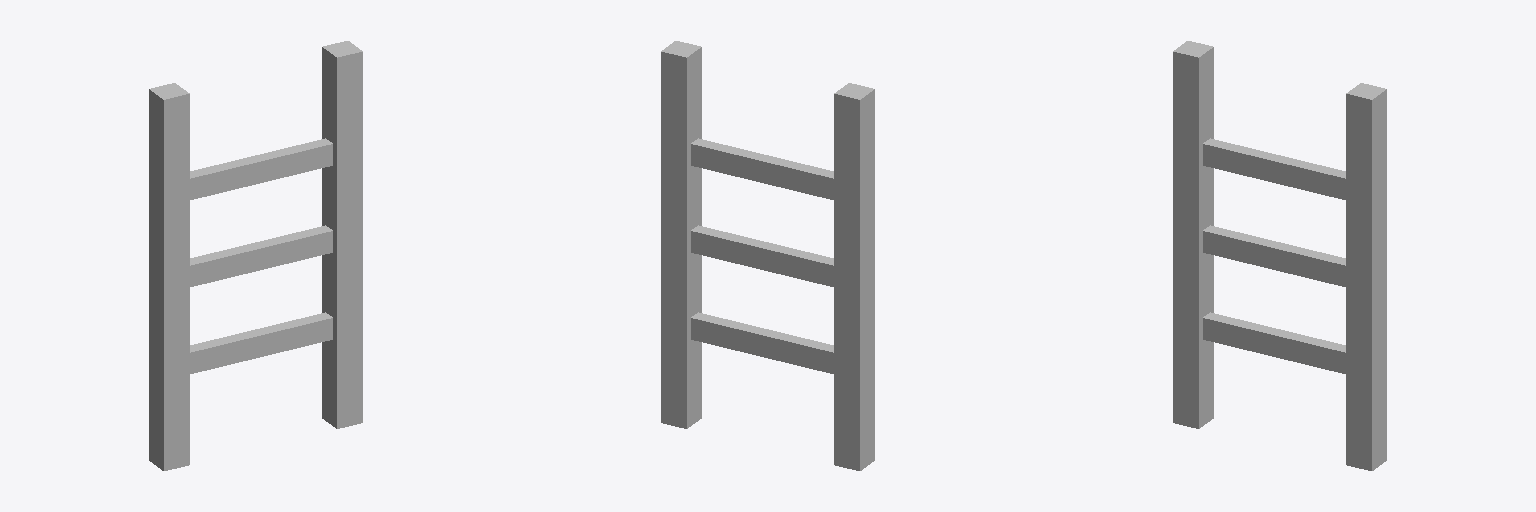
The model's file is ladder.obj.
3 views of the same model, side by side, from view 1: azimuth 30°, elevation 25°; view 2: azimuth 150°, elevation 25°; view 3: azimuth 330°, elevation 25° (orthographic).
Visible parts, largest first — view 1: Plane; view 2: Plane; view 3: Plane.
Boxes of the visible parts, <box> form: Plane: <box>149,41,362,470</box>; Plane: <box>661,41,874,470</box>; Plane: <box>1173,41,1386,470</box>.
Size of the model in its own units: 2.3 by 4.1 by 0.3.